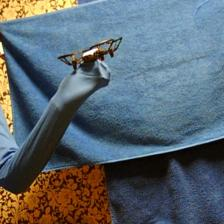drone: (57, 36, 126, 70)
